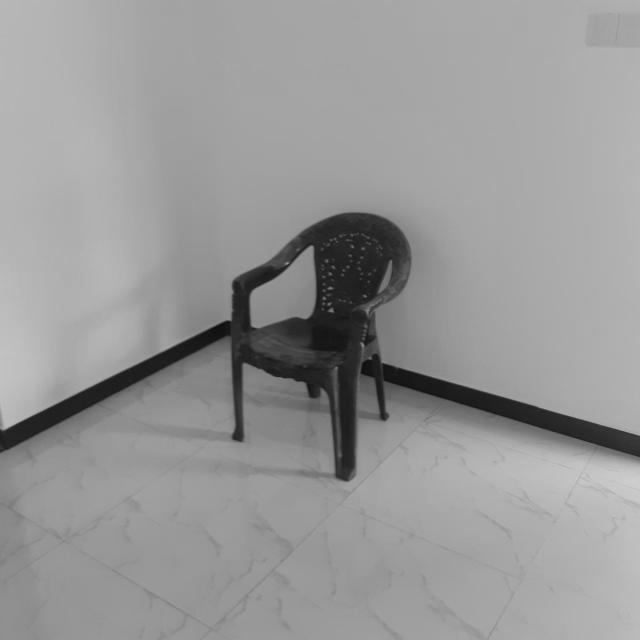chair: (232, 209, 412, 486)
